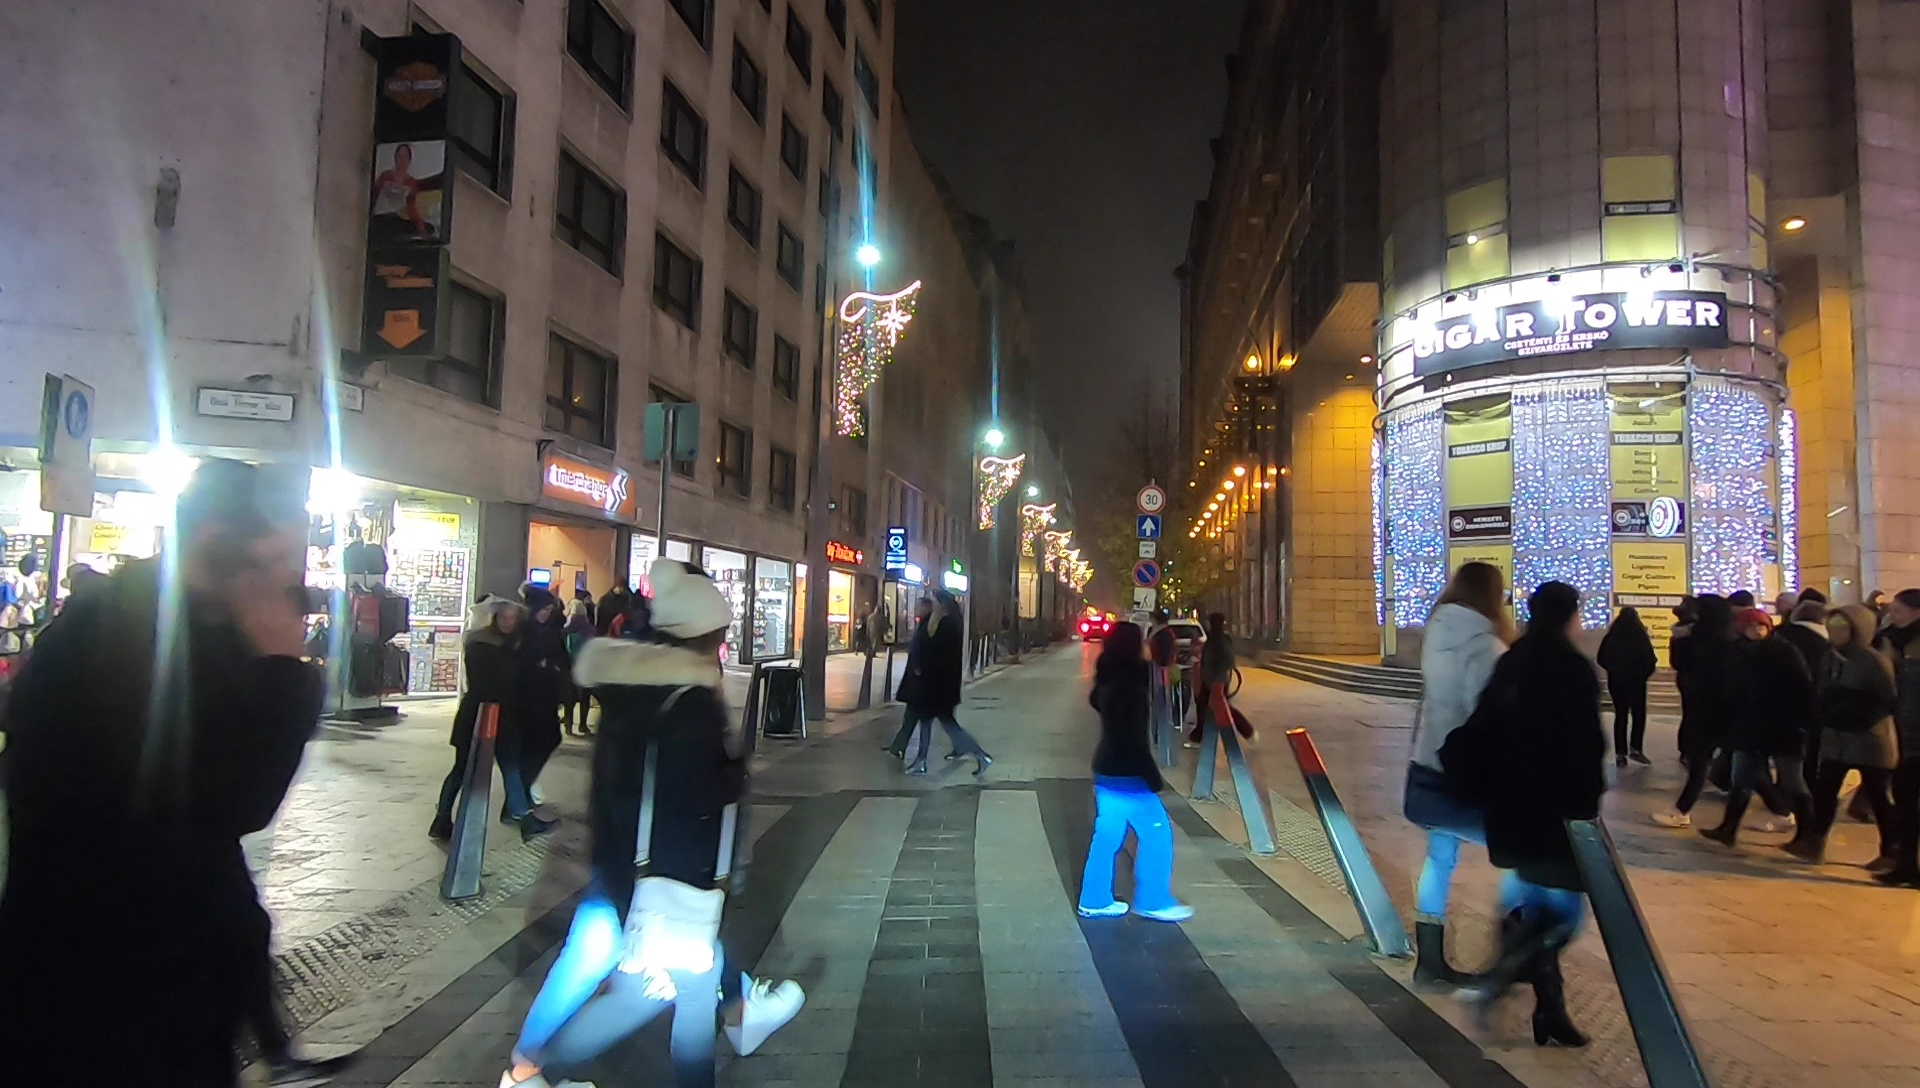person: (6, 460, 306, 1088), (556, 565, 730, 1088), (1473, 575, 1589, 1043), (1411, 563, 1531, 984), (1075, 620, 1192, 925), (435, 588, 543, 838), (1796, 604, 1893, 863), (1726, 617, 1812, 847), (879, 595, 969, 763), (512, 585, 562, 808), (1885, 593, 1920, 885), (1188, 613, 1255, 750), (918, 596, 965, 772), (1602, 604, 1652, 768), (565, 594, 594, 742)
